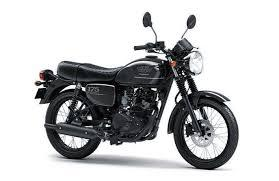motorcycle: (28, 10, 242, 175)
